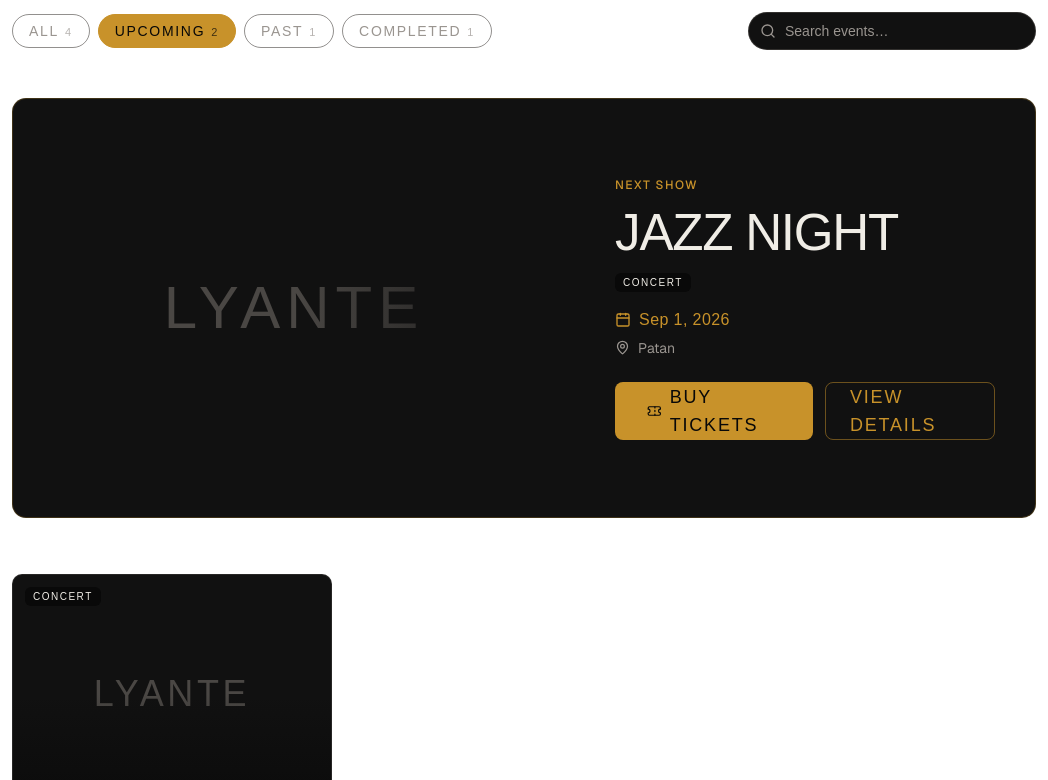
Test case: EventsBrowser — search › updates chip counts to reflect the query
The width and height of the screenshot is (1048, 780).
Type "jazz" into the search field labelled "Search events…" at (892, 31), box [748,12,1036,50]
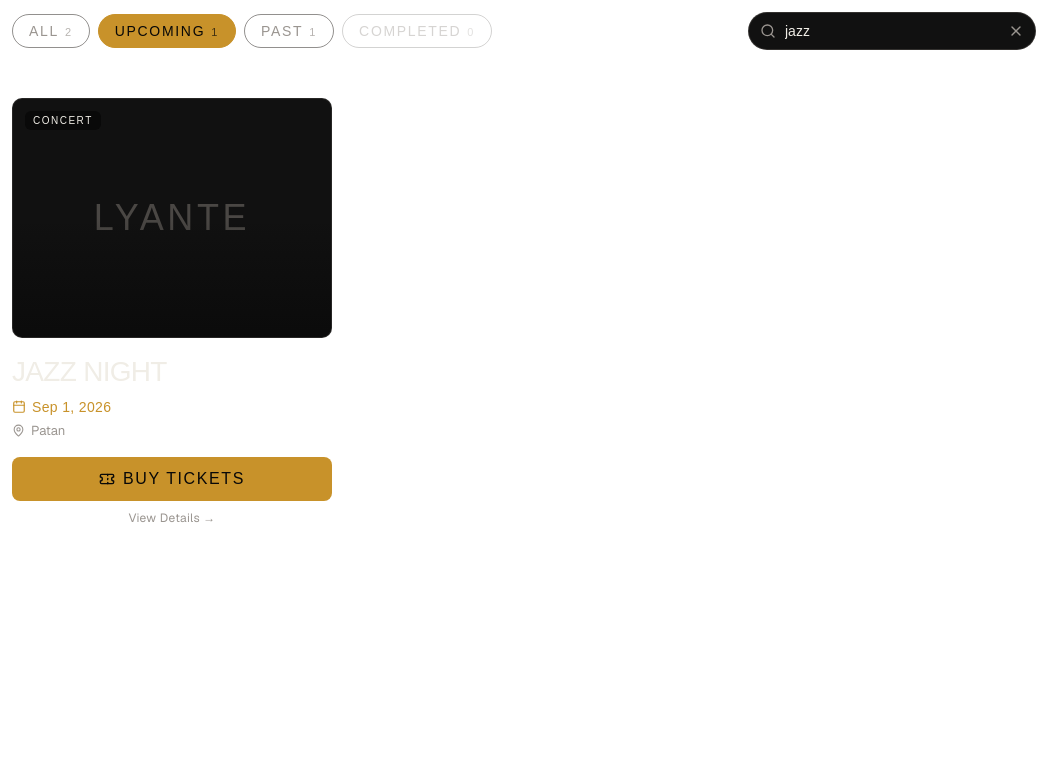
Check: the button "Past1" is shown, box [244,14,334,48]
Check: the button "All2" is shown, box [12,14,90,48]
Check: the button "Upcoming1" is shown, box [98,14,236,48]
